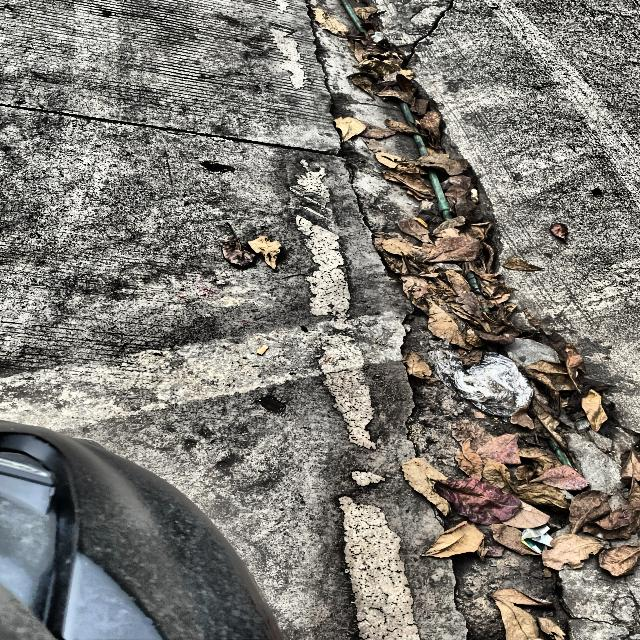no_or_faded_road_markings: (291, 160, 420, 640), (1, 312, 406, 432)
